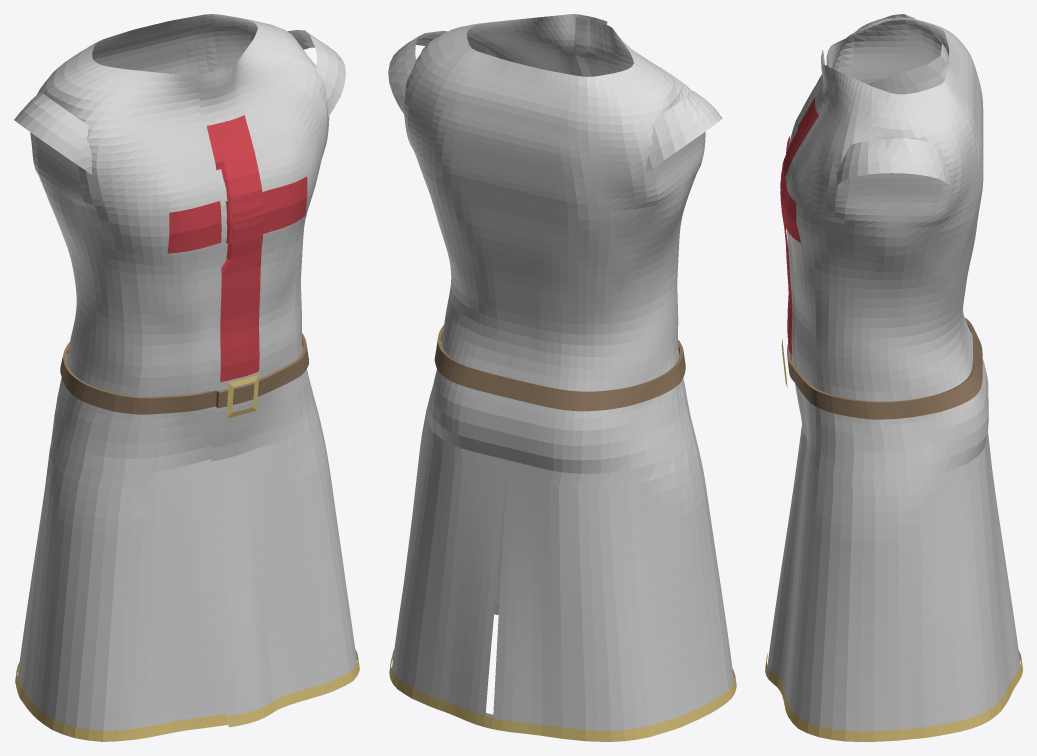
The model's file is ewb_tabard.glb.
3 renders of one model, left to right at view 1: azimuth 30°, elevation 25°; view 2: azimuth 150°, elevation 25°; view 3: azimuth 270°, elevation 25°, orthographic. The views are drawn at different scales.
Parts seen in each view (by area): view 1: ewb_tabard; view 2: ewb_tabard; view 3: ewb_tabard.
Boxes of the visible parts, x1,y1,x2,y2 form: ewb_tabard: (14, 14, 359, 741); ewb_tabard: (388, 14, 736, 741); ewb_tabard: (765, 14, 1022, 741).
Bounding box in the file's own units: 0.5582 × 1.08 × 0.4111.
